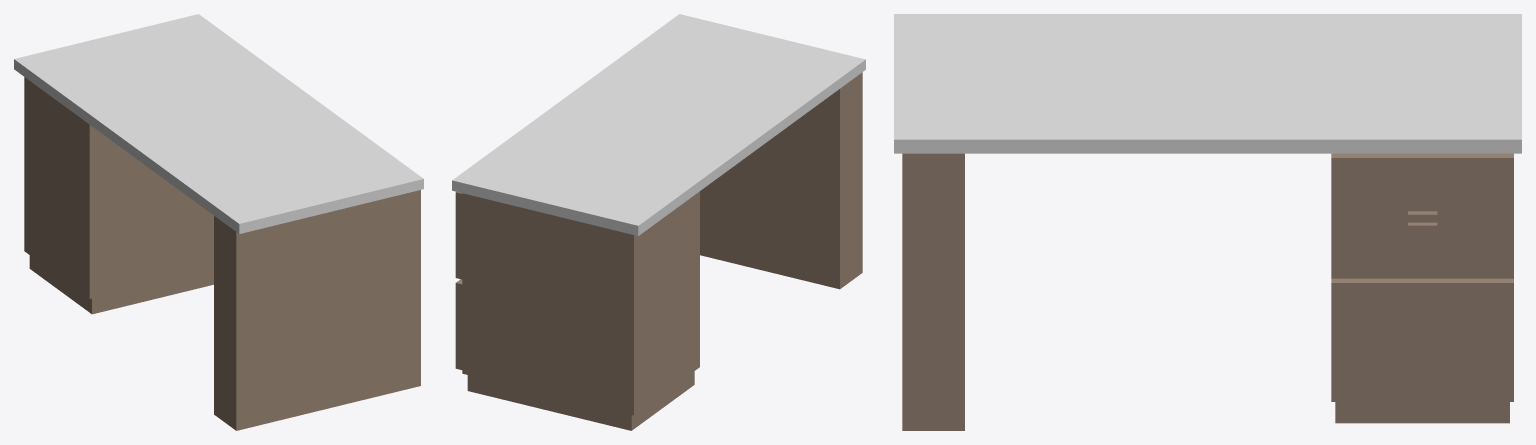
File: ban.fbx
3 renders of one model, left to right at view 1: azimuth 30°, elevation 25°; view 2: azimuth 150°, elevation 25°; view 3: azimuth 270°, elevation 25°, orthographic. The views are drawn at different scales.
Visible parts, largest first — view 1: Cube; view 2: Cube; view 3: Cube.
Boxes of the visible parts, box(x1,y1,x2,y2) form: Cube: box(14, 14, 423, 430); Cube: box(452, 14, 865, 430); Cube: box(894, 14, 1521, 430).
Size of the model in its own units: 263 by 285 by 557.
